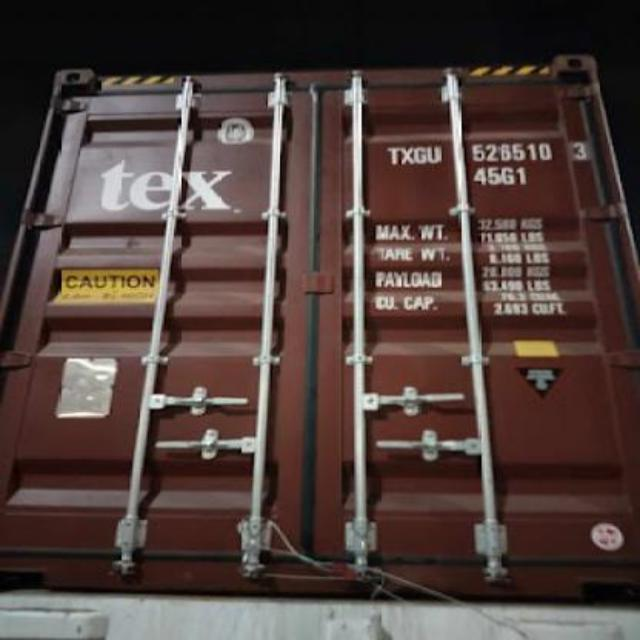0: (538, 136, 556, 164)
1: (526, 134, 538, 162)
2: (486, 136, 499, 162)
3: (572, 141, 594, 159)
5: (464, 142, 486, 164), (512, 138, 526, 162)
6: (496, 134, 512, 164)
G: (412, 142, 428, 168)
T: (382, 142, 402, 168)
U: (426, 142, 448, 166)
X: (400, 146, 416, 170)
